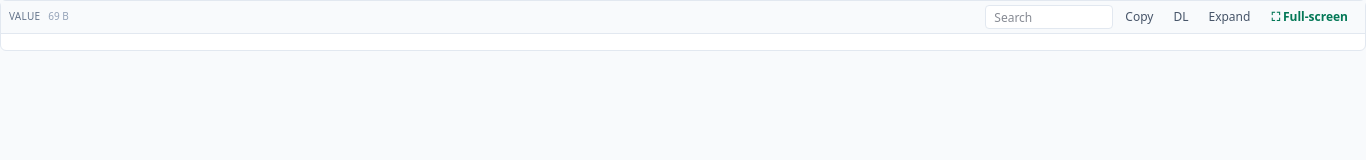
JsonViewer toolbar › Expand button reveals all levels then a Collapse button replaces it
This screenshot has width=1366, height=160.
Click the button with aria-label "Expand all levels": (1229, 17) [1200,5,1258,29]
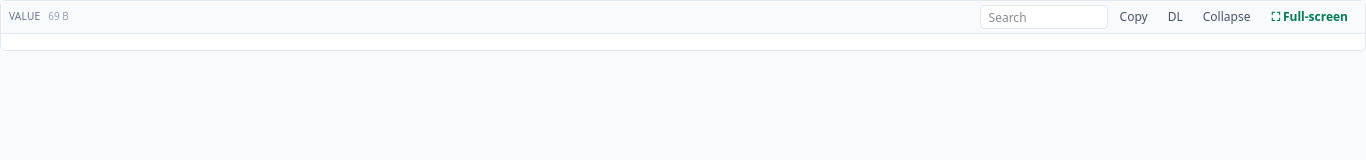
Now the button with aria-label "Collapse to default" is shown
Click the button with aria-label "Collapse to default": (1227, 17) [1195,5,1258,29]
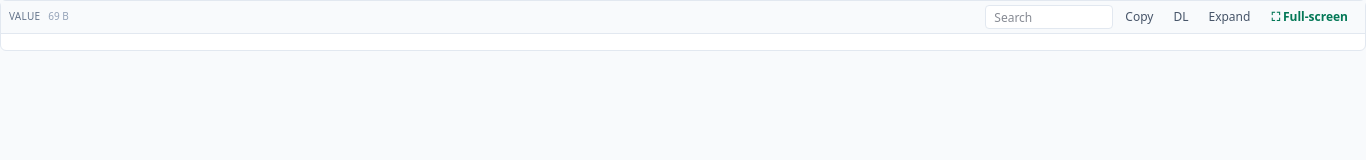
Now the button with aria-label "Expand all levels" is shown, box [1200,5,1258,29]
